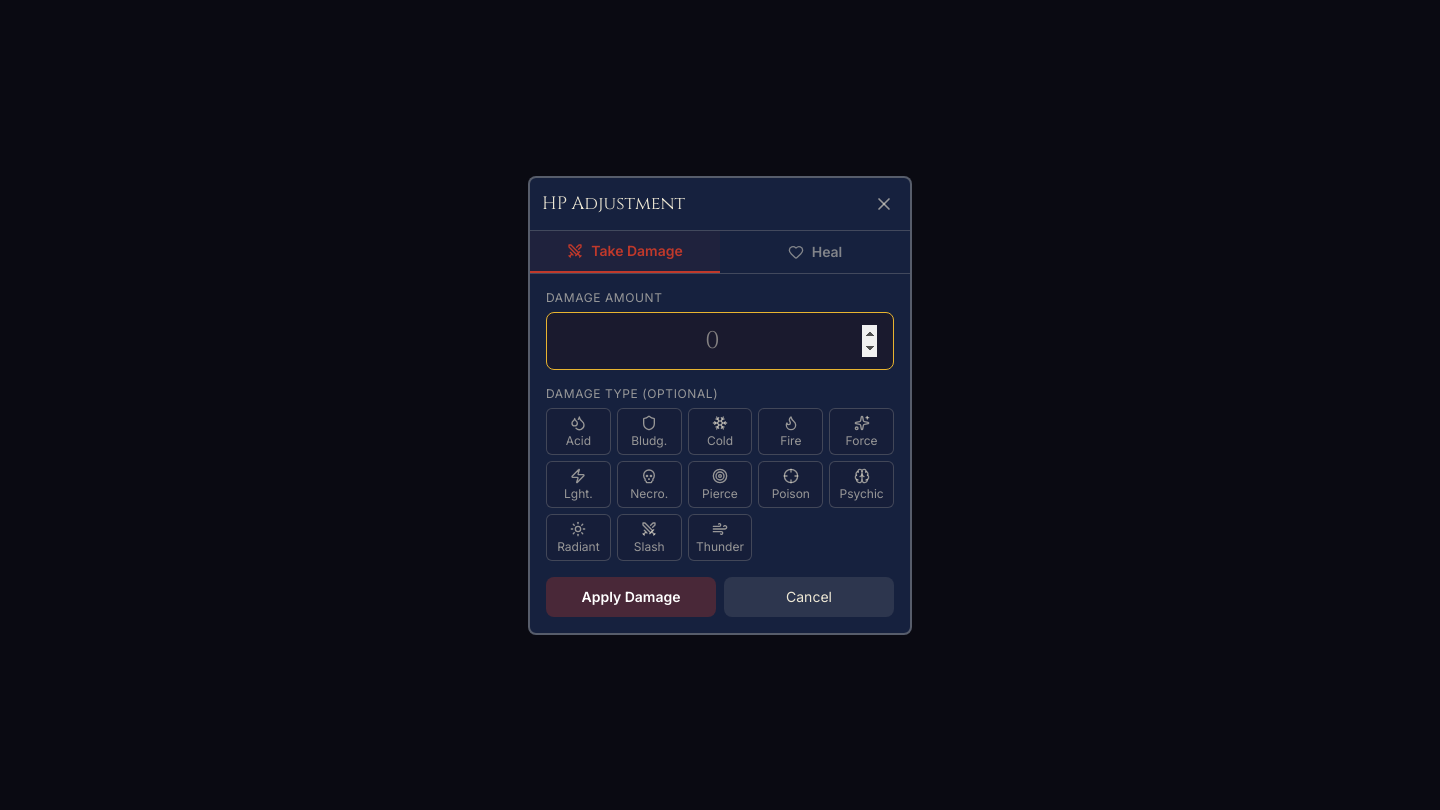
Test: DamageHealModal › should show instant death warning for massive damage
The image size is (1440, 810).
Type "30" into the number field with test id "hp-amount-input" at (720, 340), box [546,312,894,370]
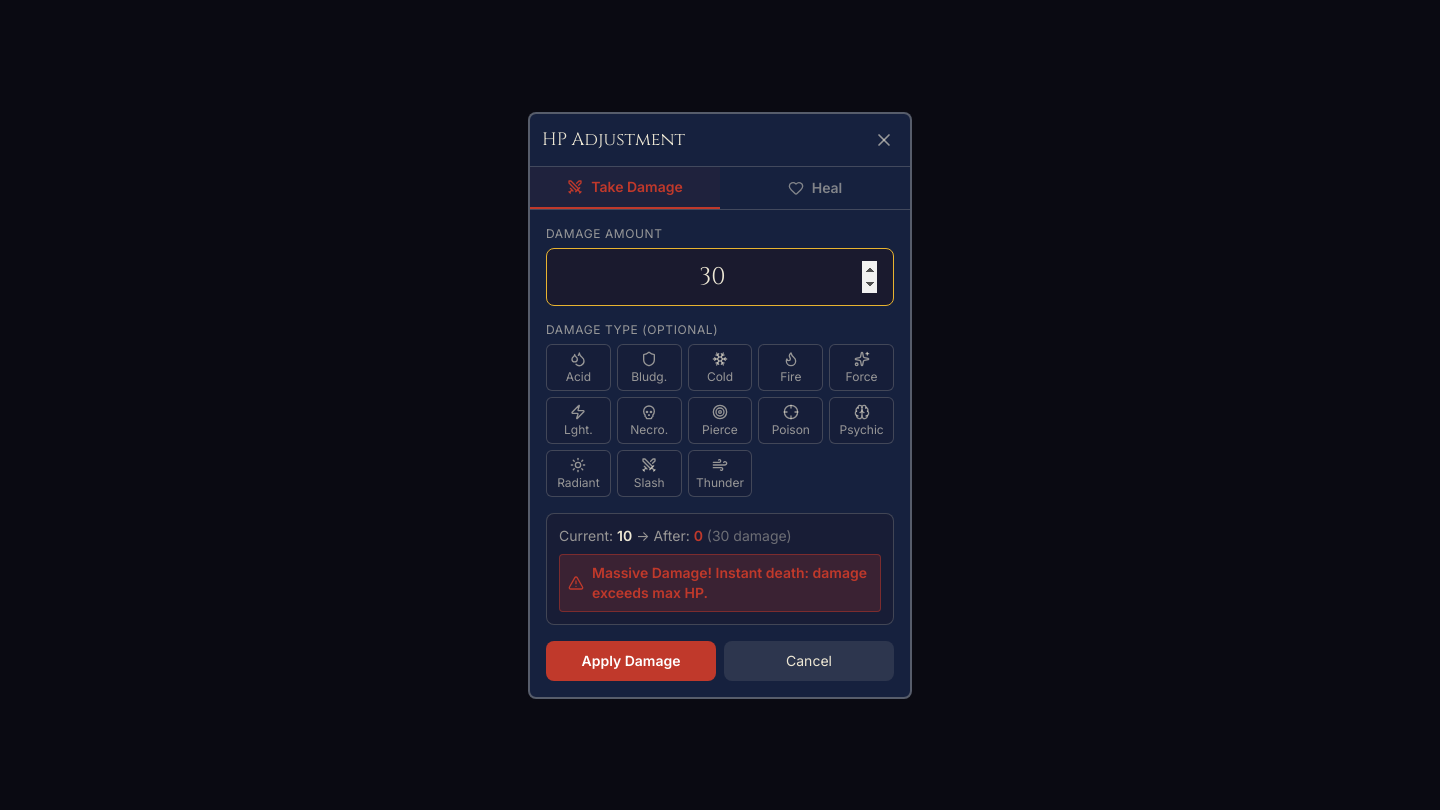
Now the element with test id "instant-death-warning" is shown, box [559,554,881,612]
Now the element with test id "instant-death-warning" shows "Massive Damage", box [592,564,867,600]
